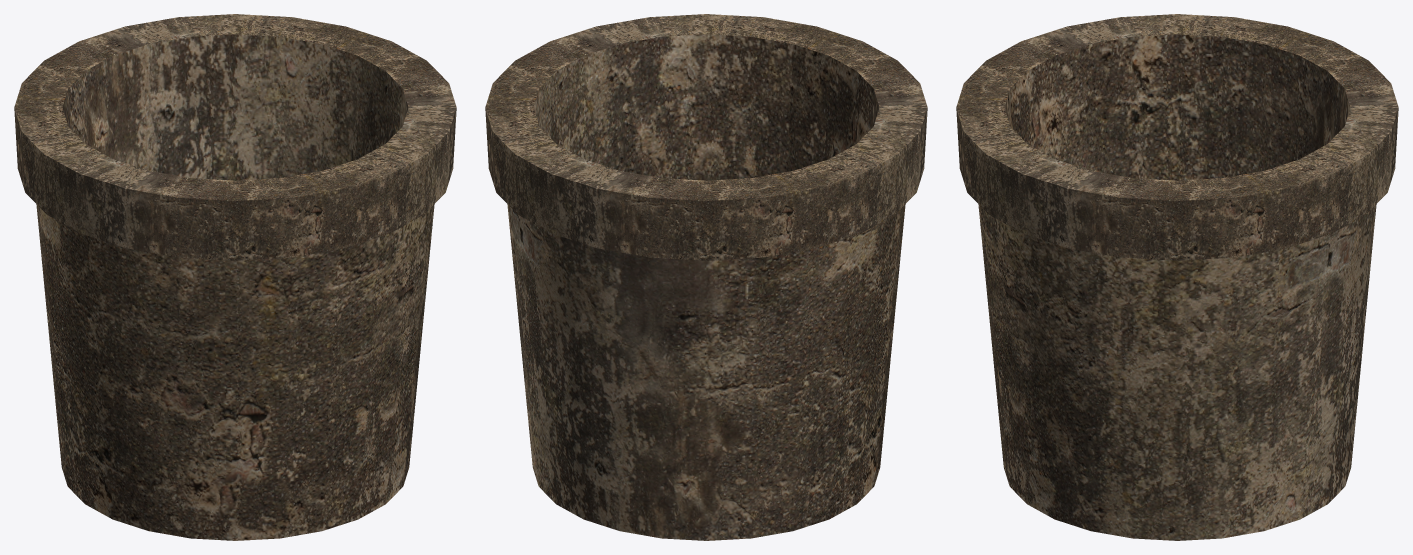
File: materials_5_pot_0.fbx
3 renders of one model, left to right at view 1: azimuth 30°, elevation 25°; view 2: azimuth 150°, elevation 25°; view 3: azimuth 270°, elevation 25°, orthographic.
Parts seen in each view (by area): view 1: materials_5_pot_0; view 2: materials_5_pot_0; view 3: materials_5_pot_0.
Boxes of the visible parts, bbox=[...] form: materials_5_pot_0: bbox=[14, 14, 456, 540]; materials_5_pot_0: bbox=[485, 14, 927, 540]; materials_5_pot_0: bbox=[956, 14, 1398, 540].
Bounding box in the file's own units: 23.72 × 21.3 × 23.72.
